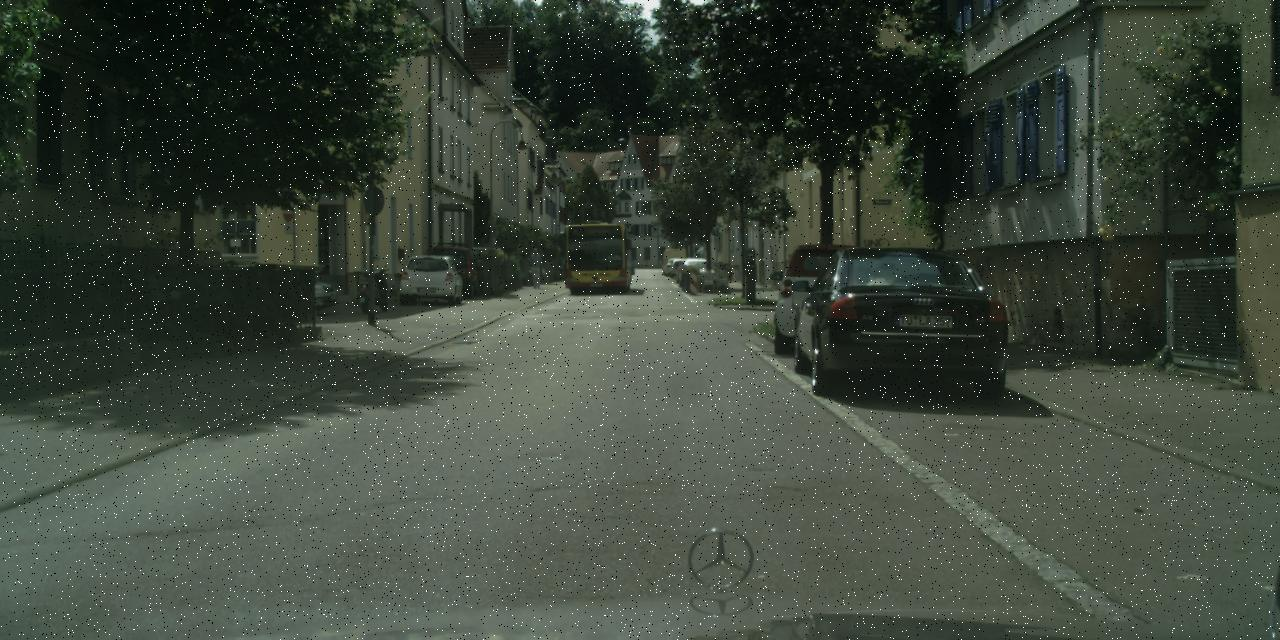ped: (528, 248, 543, 288)
